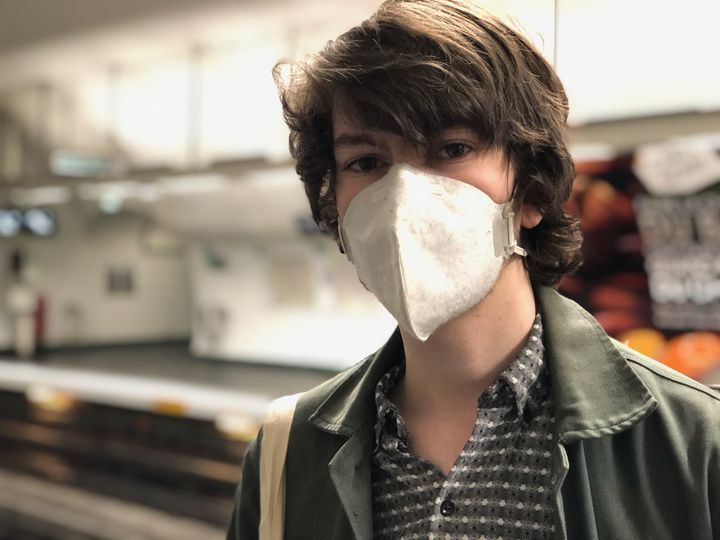with_mask: (326, 121, 515, 337)
